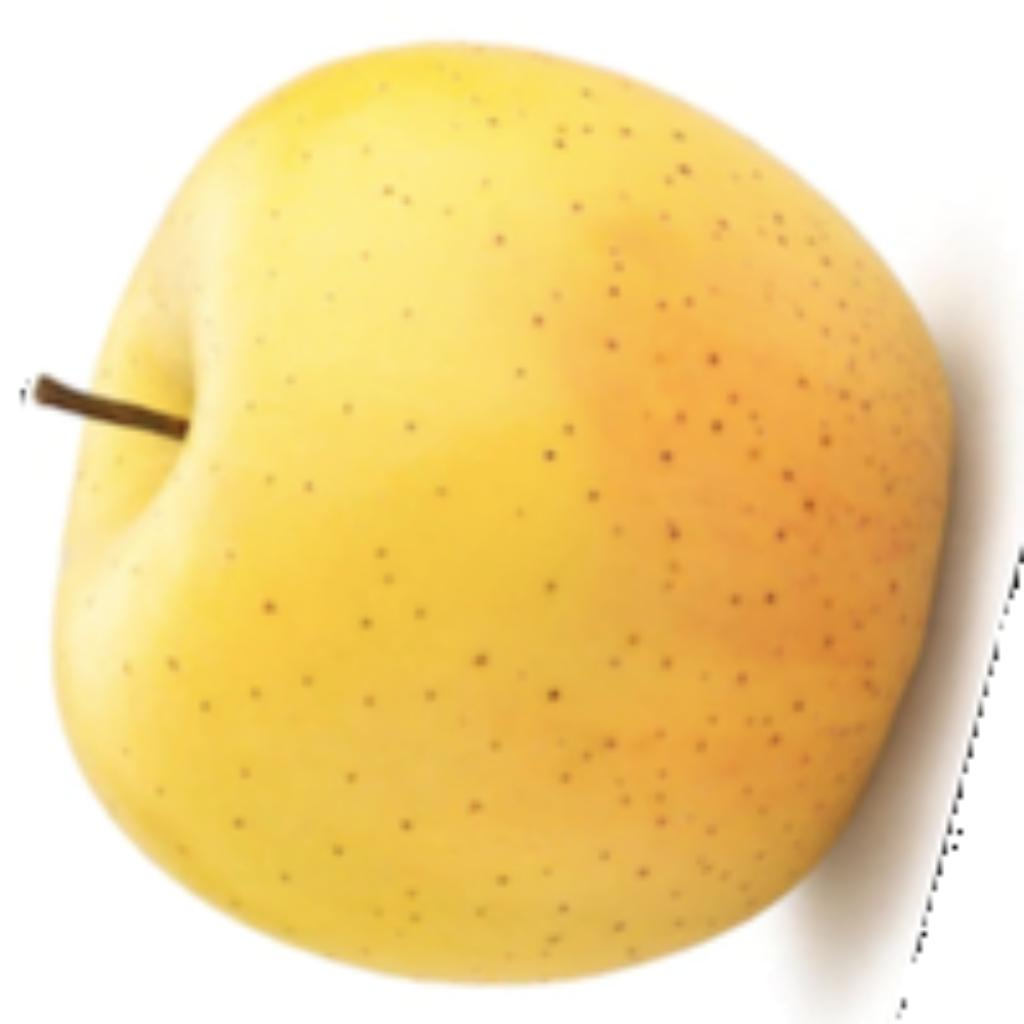apple: (15, 31, 1019, 1019)
